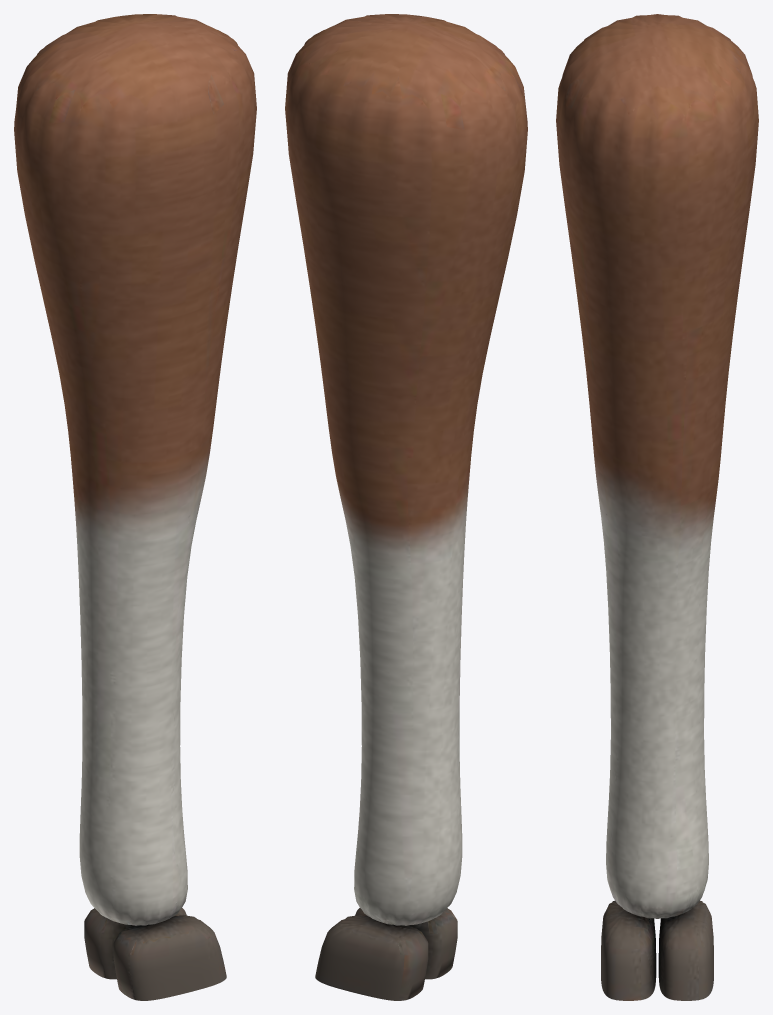
File: cow_leg_front.glb
The picture shows the model from 3 angles, left to right: view 1: azimuth 30°, elevation 25°; view 2: azimuth 150°, elevation 25°; view 3: azimuth 270°, elevation 25°; orthographic projection.
Parts seen in each view (by area): view 1: cow_leg_front; view 2: cow_leg_front; view 3: cow_leg_front.
Part boxes in pixels (bbox=[...]): cow_leg_front: bbox=[14, 14, 256, 1000]; cow_leg_front: bbox=[285, 14, 527, 1000]; cow_leg_front: bbox=[556, 14, 758, 1000].
Bounding box in the file's own units: 0.2695 × 1.11 × 0.2177.
1 material, 1 textured.
